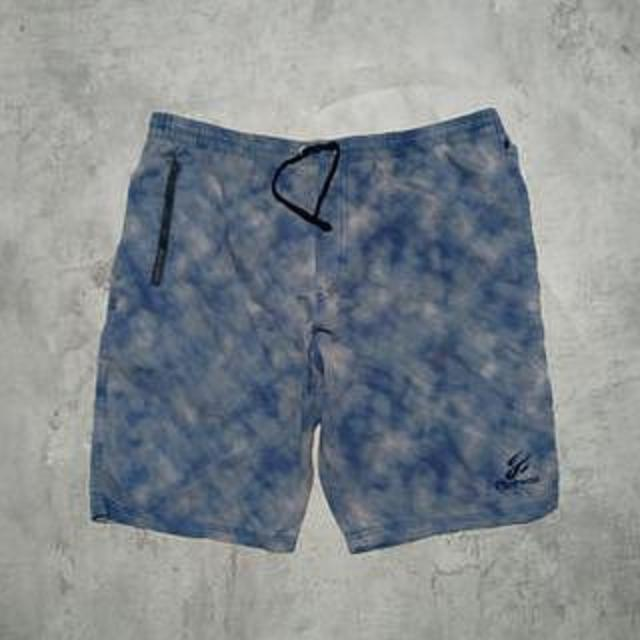SHORT: (71, 94, 597, 558)
